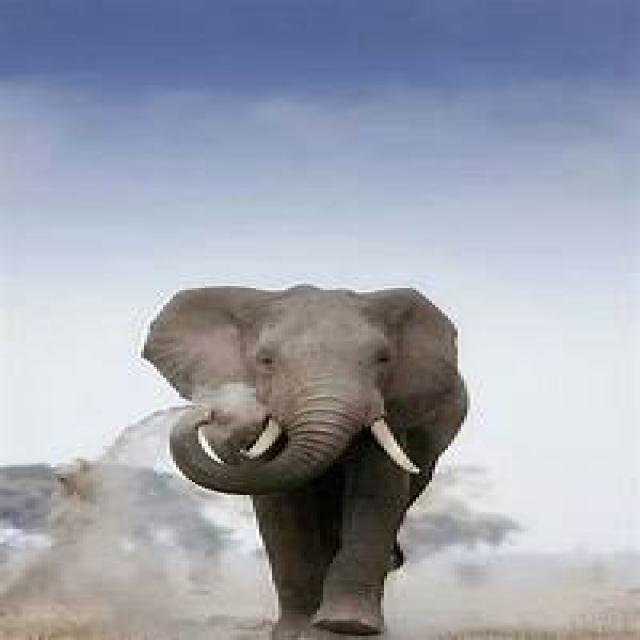elephant: (141, 286, 470, 640)
